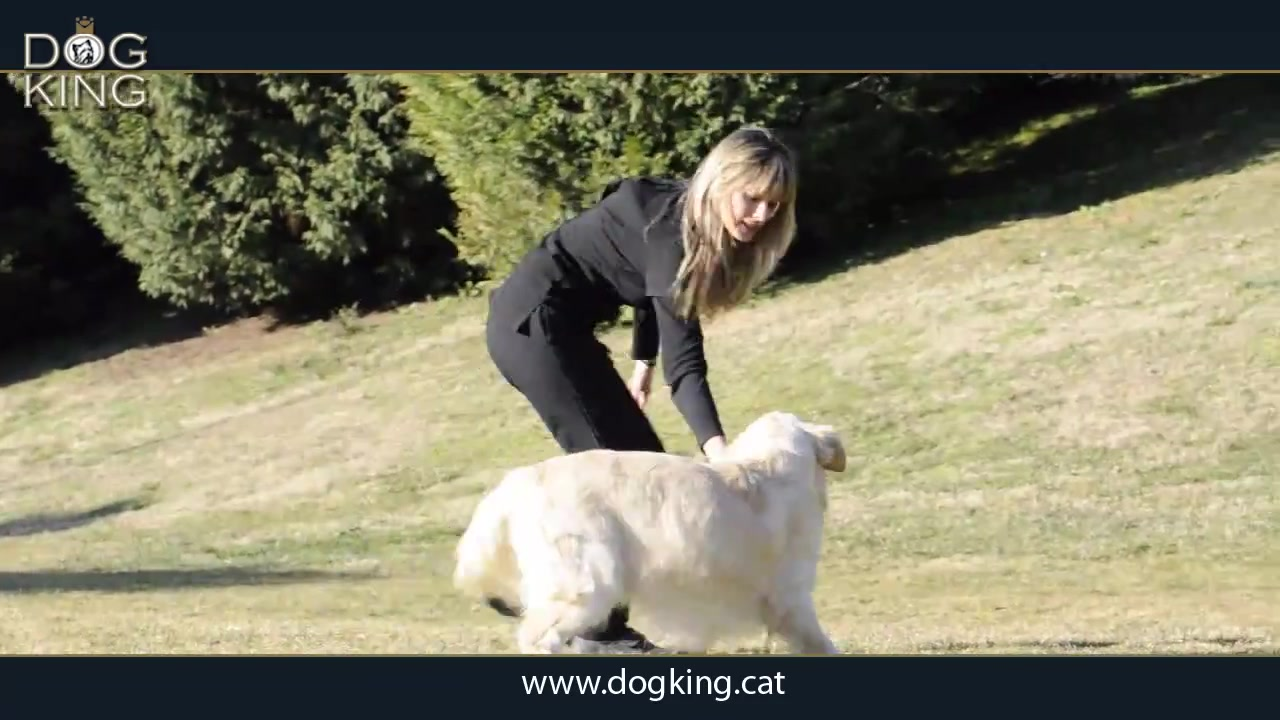dog: (451, 407, 851, 657)
